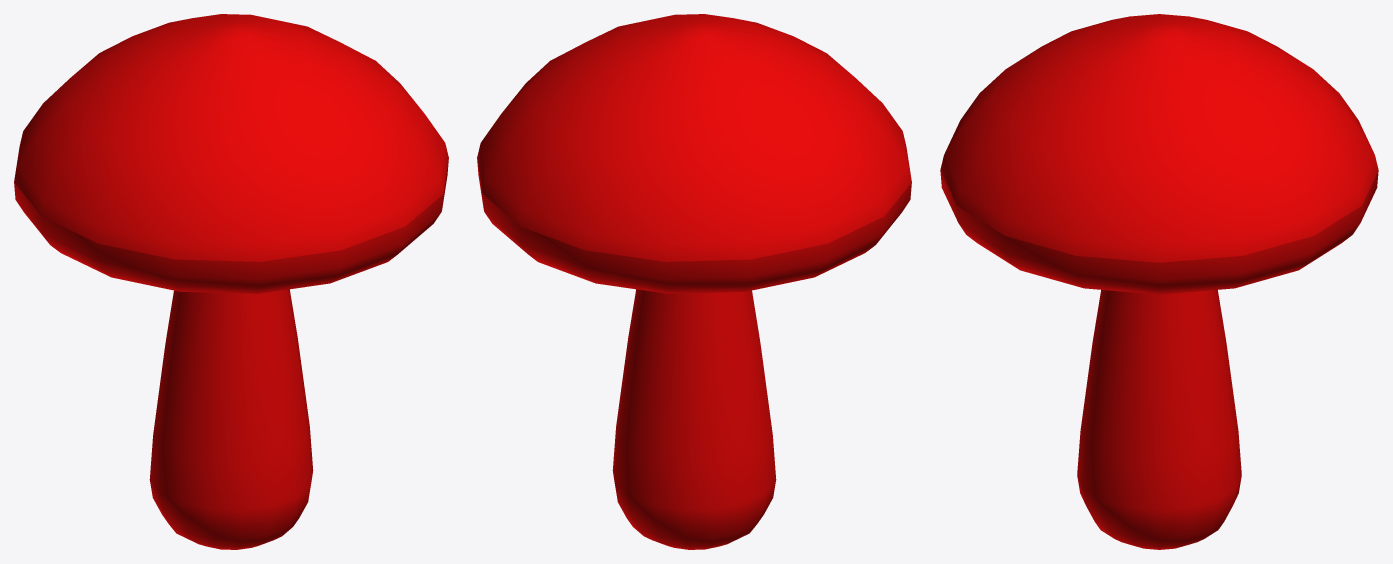
File: SM_Mushroom01.fbx
3 renders of one model, left to right at view 1: azimuth 30°, elevation 25°; view 2: azimuth 150°, elevation 25°; view 3: azimuth 270°, elevation 25°, orthographic.
Visible parts, largest first — view 1: mushroom_low; view 2: mushroom_low; view 3: mushroom_low.
Part boxes in pixels (left/top/right/bottom): mushroom_low: left=14, top=14, right=448, bottom=549; mushroom_low: left=477, top=14, right=911, bottom=549; mushroom_low: left=940, top=14, right=1378, bottom=549.
Size of the model in its own units: 8.21 by 10.45 by 8.21.
